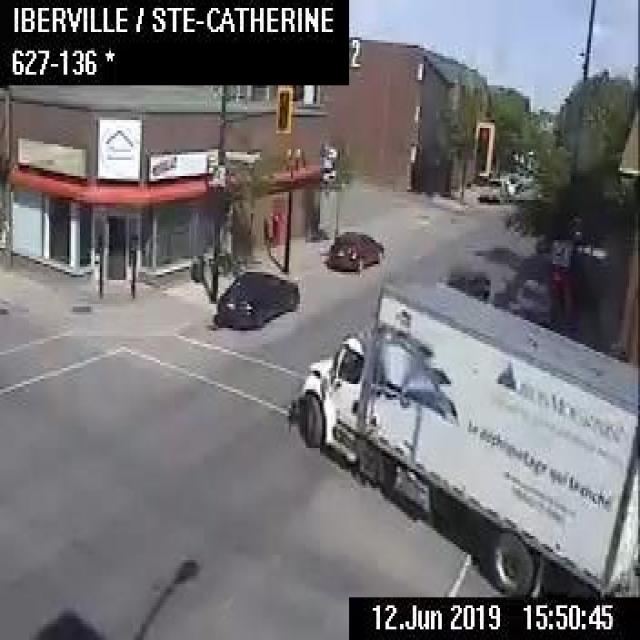vehicle: (284, 276, 638, 595), (211, 267, 300, 328), (325, 227, 382, 269), (507, 277, 549, 322), (445, 261, 491, 301), (478, 177, 508, 200), (498, 171, 522, 193)
